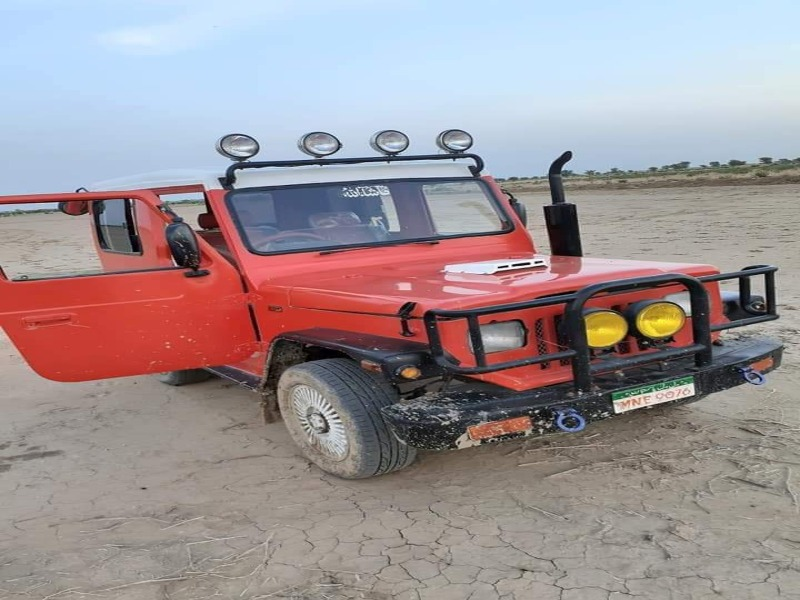License Plate: (612, 375, 701, 416)
